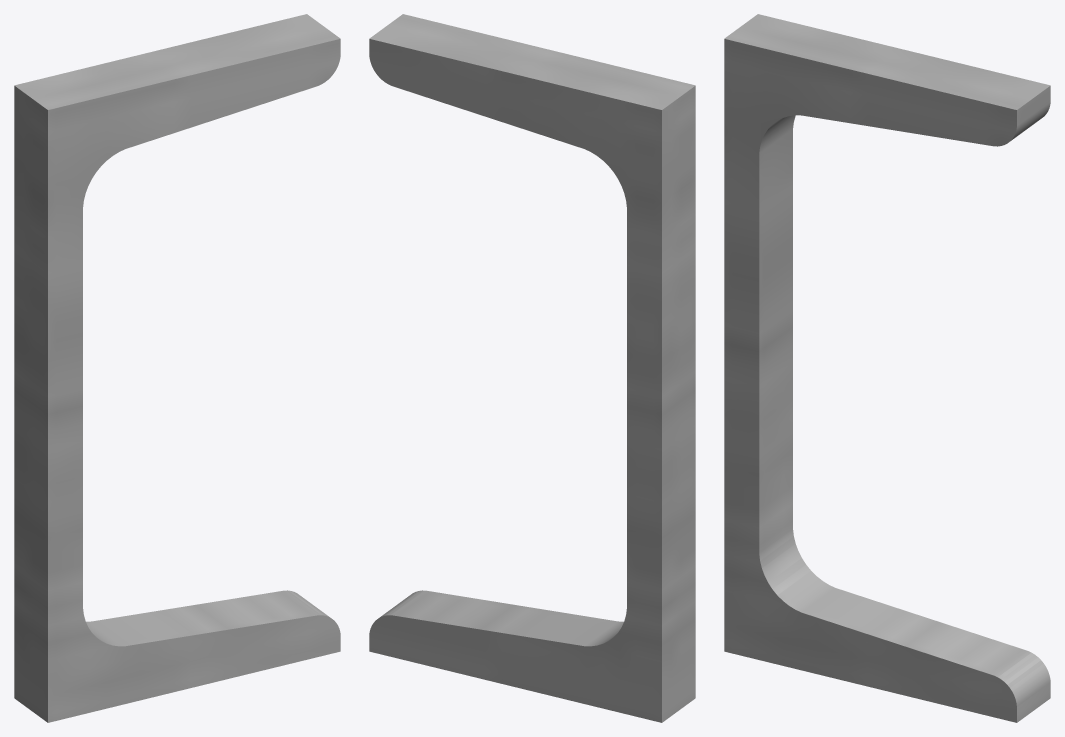
File: UPN100.glb
3 renders of one model, left to right at view 1: azimuth 30°, elevation 25°; view 2: azimuth 150°, elevation 25°; view 3: azimuth 330°, elevation 25°, orthographic.
Size of the model in its own units: 5 by 10 by 1.
Materials: 1 (1 with a texture image).
